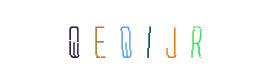E: (56, 0, 136, 80)
I: (92, 0, 172, 80)
J: (100, 0, 180, 80)
Q: (53, 0, 133, 80), (89, 0, 169, 80)
R: (155, 0, 235, 80)
